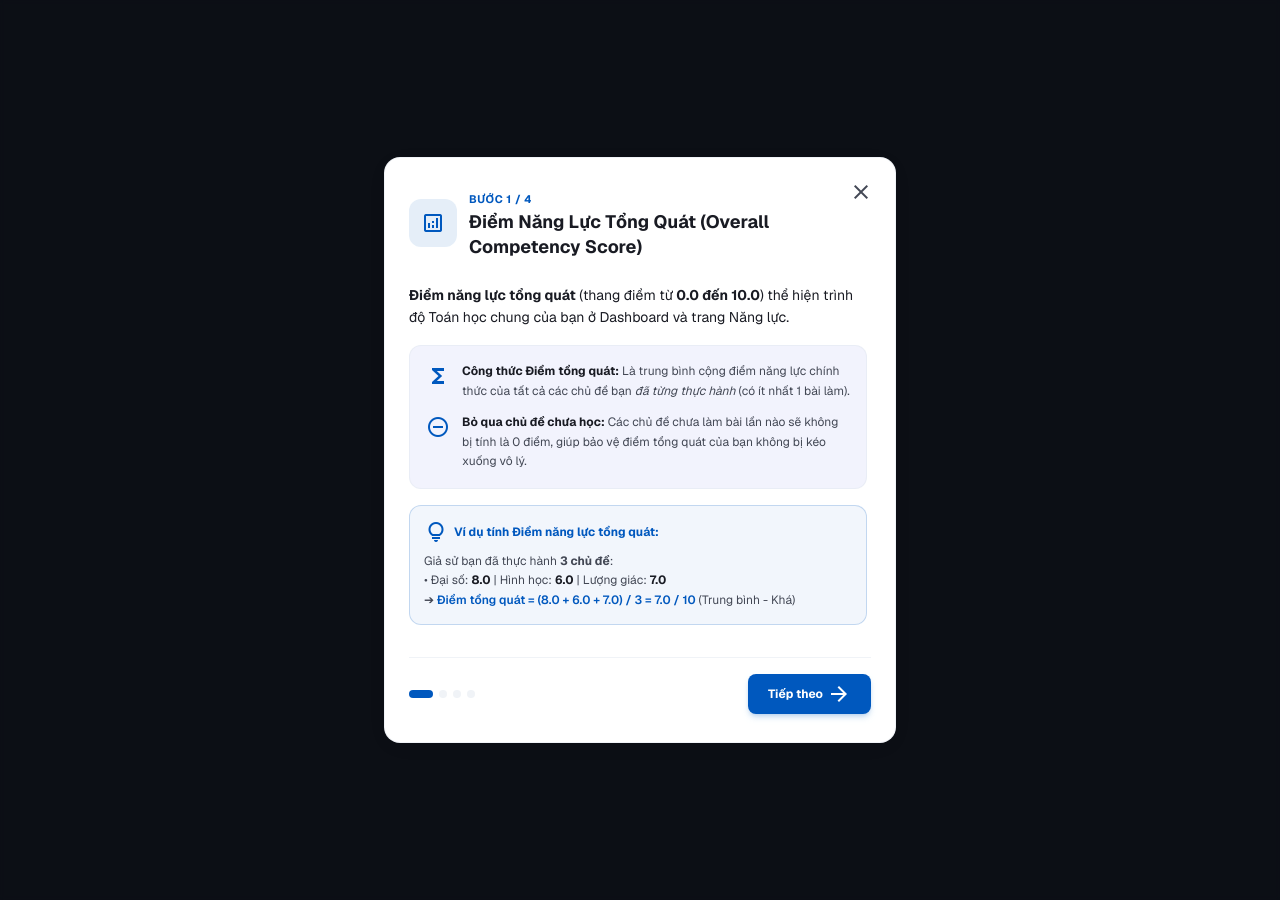
Scenario: CompetencyTutorialModal › navigates through steps when clicking Next and Back
The image size is (1280, 900).
Click Next to Step 2
Click the button "Tiếp theo".
click(810, 694)  # box [748,674,871,714]
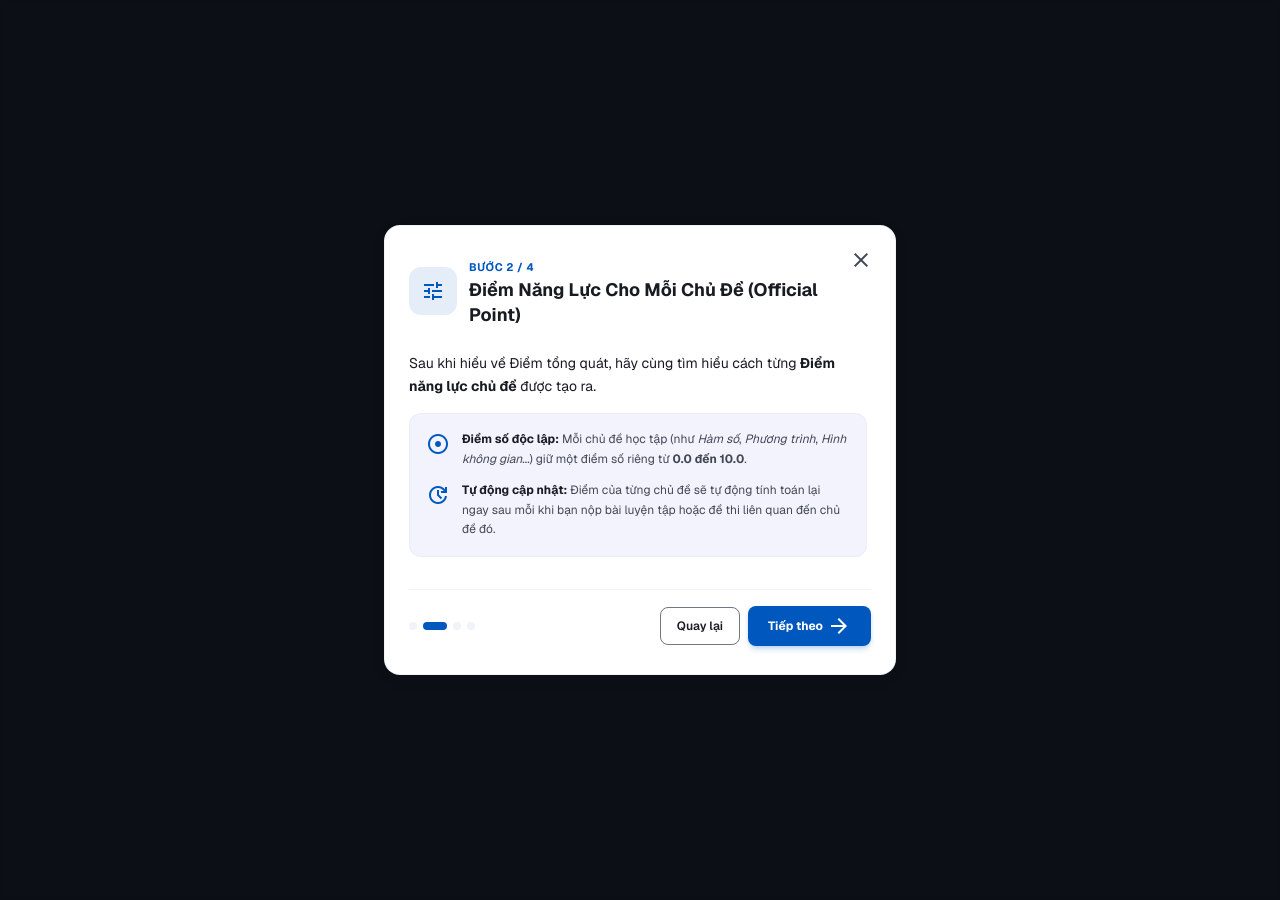
Expected: the heading "Điểm Năng Lực Cho Mỗi Chủ Đề (Official Point)" is shown, [469,278,847,328]
Expected: the text "Bước 2 / 4" is shown, [469,260,534,274]
Expected: the button "Quay lại" is shown, [660,607,740,645]
Click Next to Step 3
Click the button "Tiếp theo".
click(810, 626)  # box [748,606,871,646]
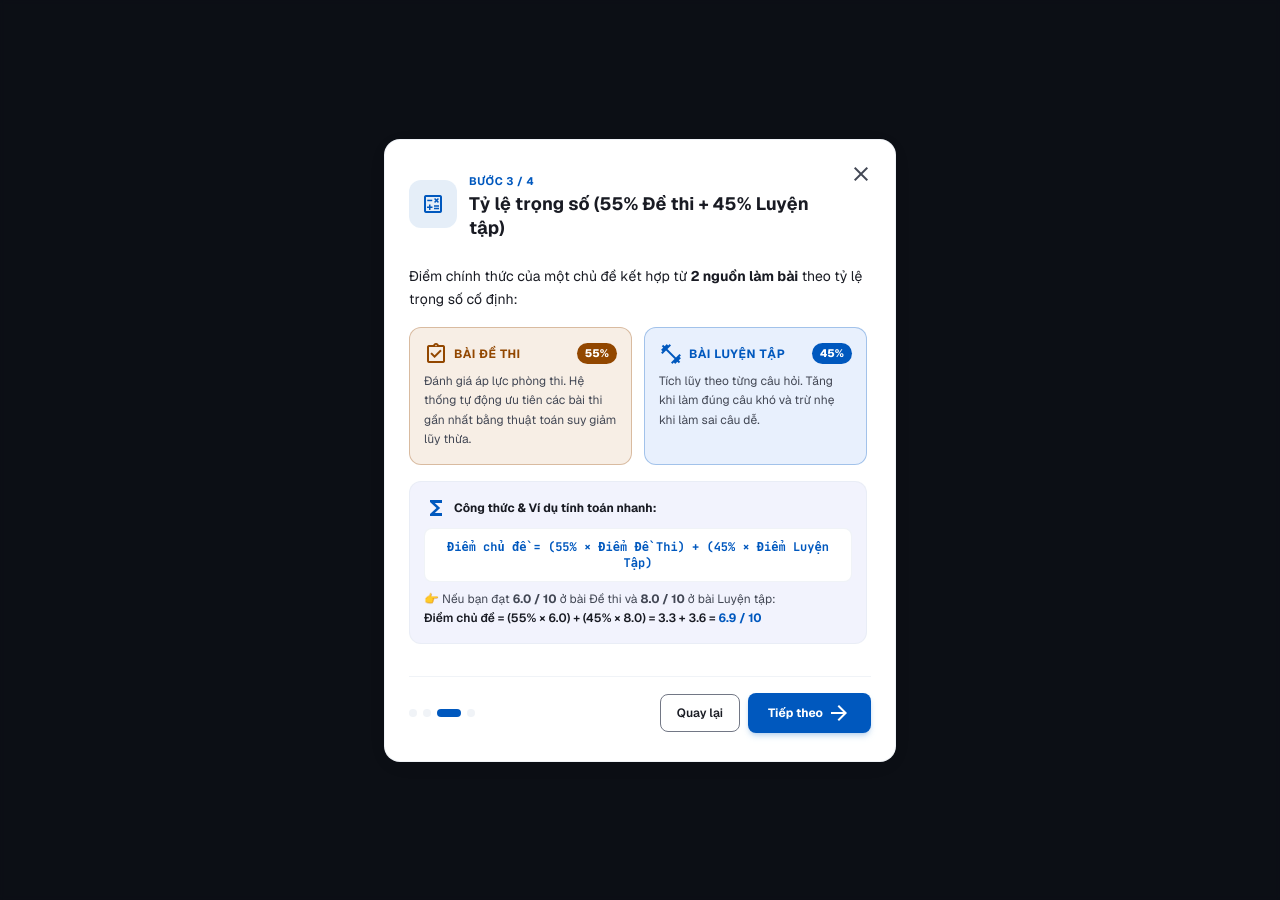
Expected: the heading "Tỷ lệ trọng số (55% Đề thi + 45% Luyện tập)" is shown, [469,192,847,241]
Expected: the text "Bước 3 / 4" is shown, [469,174,534,188]
Click Next to Step 4
Click the button "Tiếp theo".
click(810, 712)  # box [748,692,871,732]
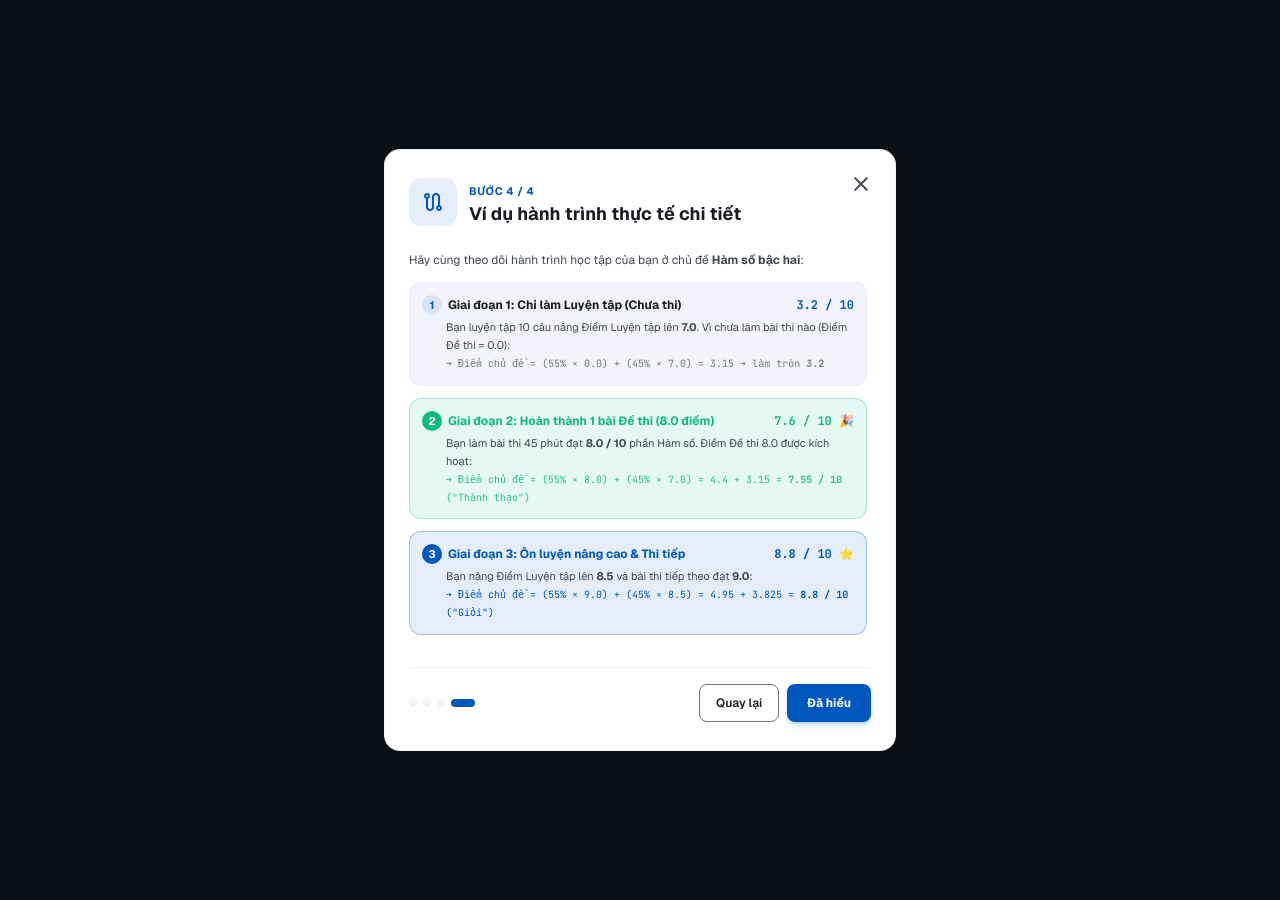
Expected: the heading "Ví dụ hành trình thực tế chi tiết" is shown, [469,202,741,227]
Expected: the text "Bước 4 / 4" is shown, [469,184,534,198]
Expected: the button "Đã hiểu" is shown, [787,684,871,722]
Click Back to Step 3
Click the button "Quay lại".
click(739, 703)  # box [699,684,779,722]
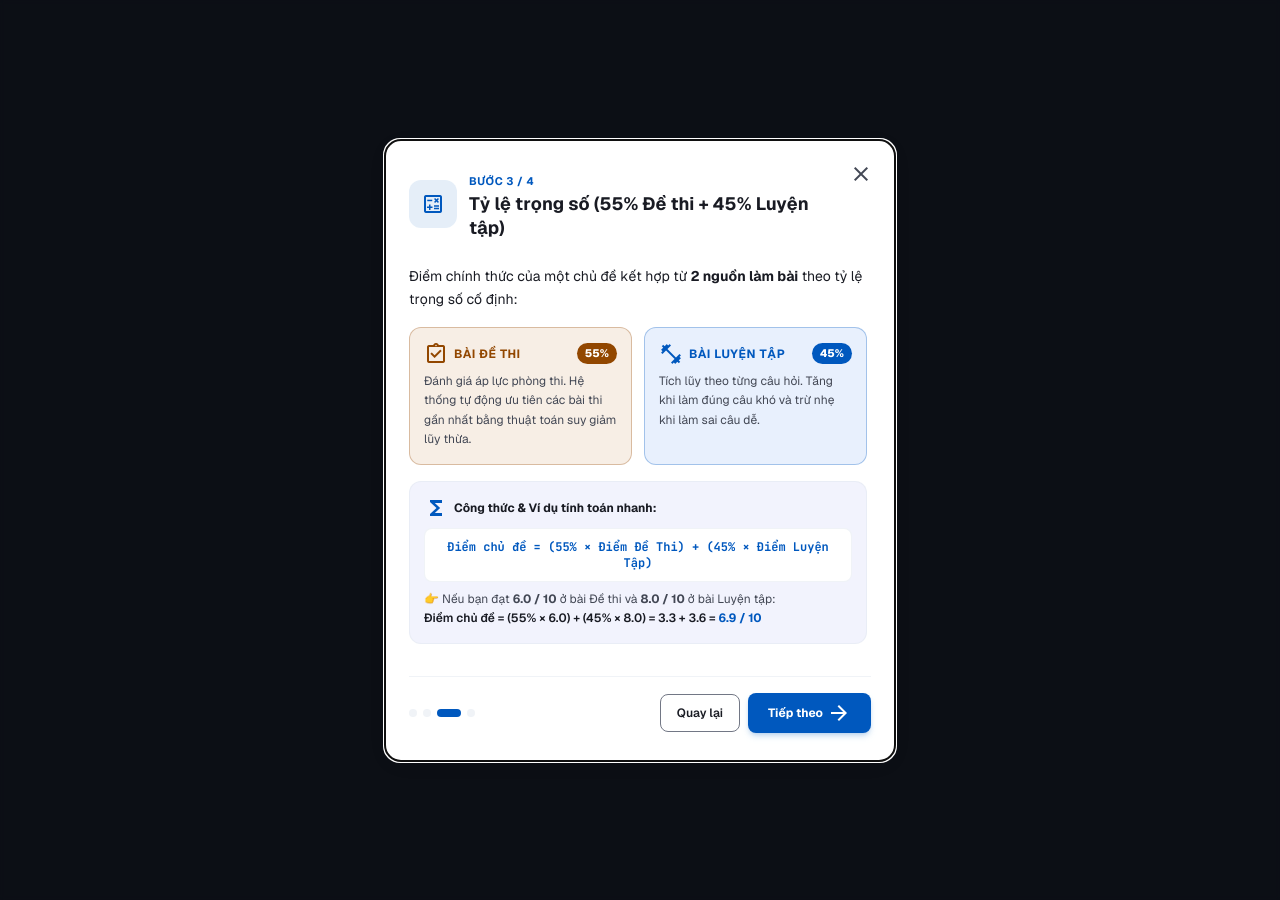
Expected: the heading "Tỷ lệ trọng số (55% Đề thi + 45% Luyện tập)" is shown, [469,192,847,241]
